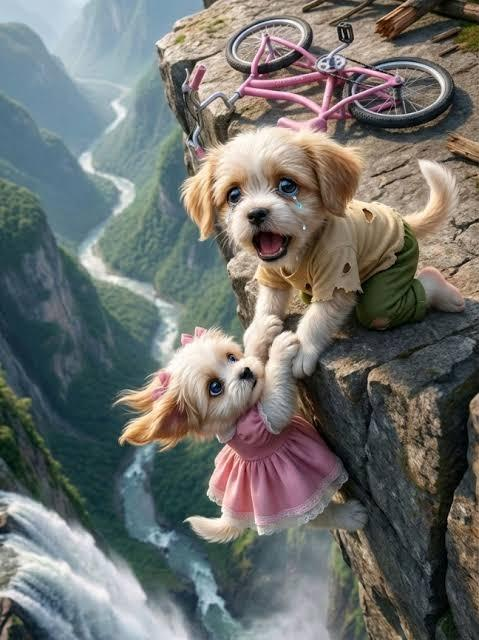adult_dog: (180, 121, 467, 381)
puppy-dog: (112, 325, 373, 544)
